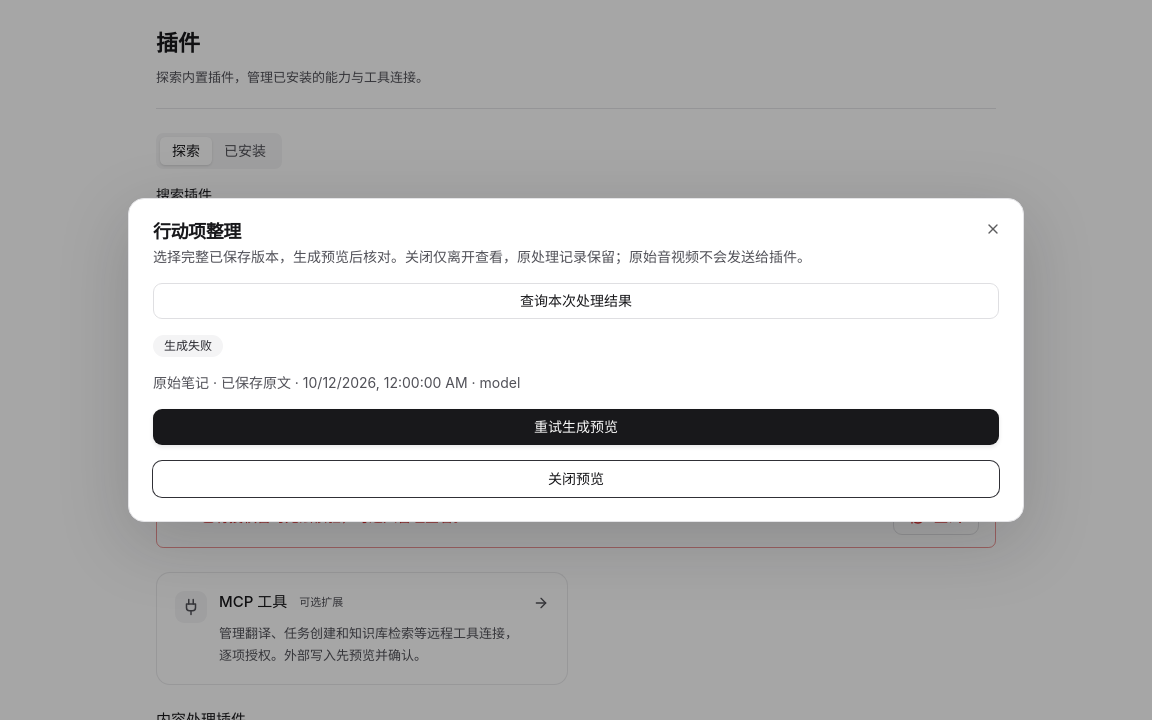
it: explicitly retries only the same safe run, retaining its immutable request
Click the button "重试生成预览".
click(576, 427)  # box [153,409,999,445]
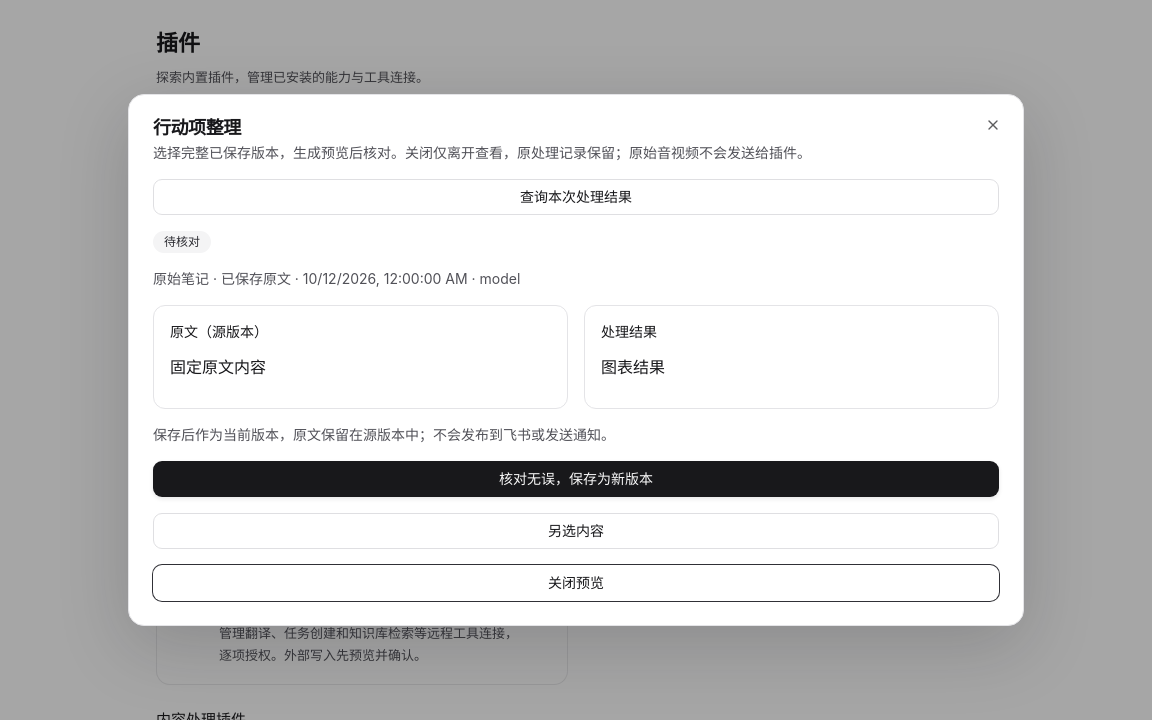
Expected: the text "图表结果" is shown, [601,357,665,377]
